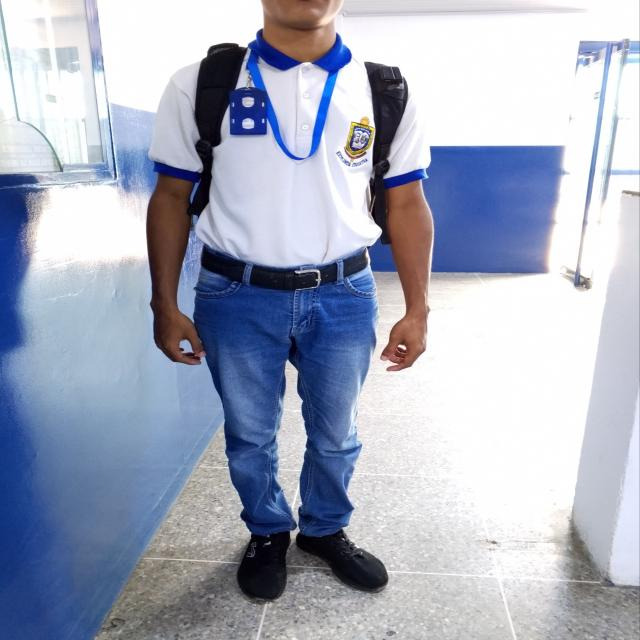carnet: (229, 86, 267, 134)
uniforme_superior: (147, 28, 432, 268)
